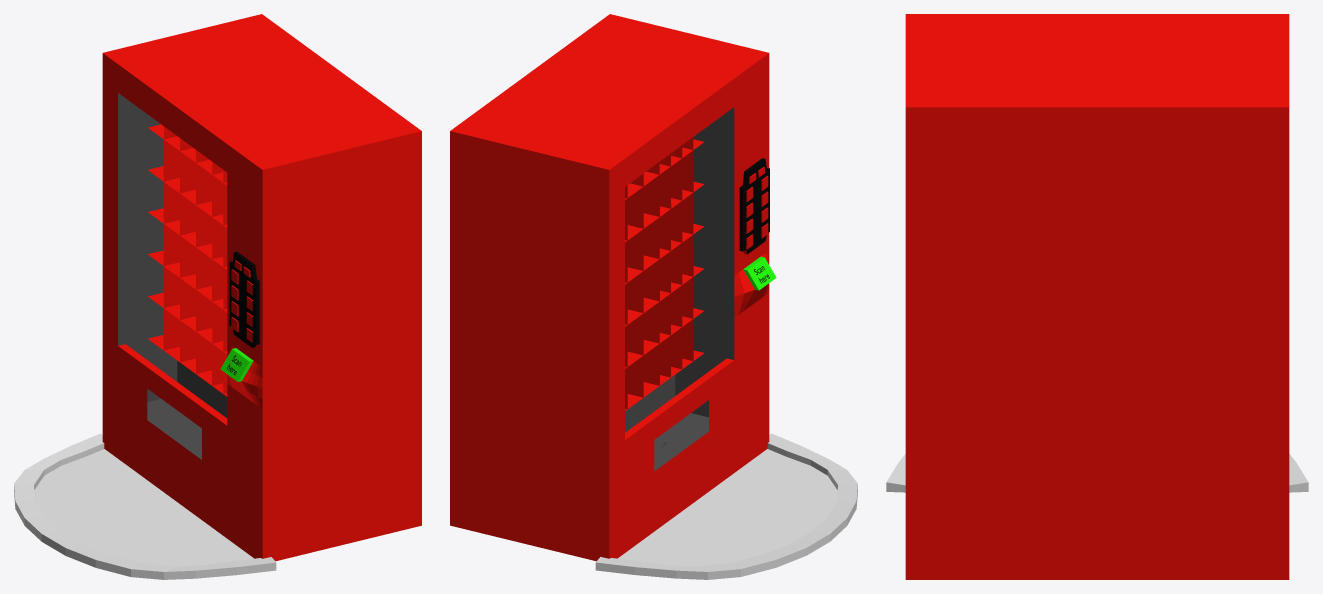
File: Fixed Vending Machine.fbx
3 renders of one model, left to right at view 1: azimuth 30°, elevation 25°; view 2: azimuth 150°, elevation 25°; view 3: azimuth 270°, elevation 25°, orthographic. The views are drawn at different scales.
Visible parts, largest first — view 1: Vending Machine, Cylinder; view 2: Vending Machine, Cylinder; view 3: Vending Machine, Cylinder.
Part boxes in pixels (x1,y1,x2,y2): Vending Machine: (102,14,421,561); Cylinder: (14,433,276,579); Vending Machine: (450,14,776,561); Cylinder: (595,433,857,579); Vending Machine: (905,14,1289,579); Cylinder: (886,454,1308,492).
Bounding box in the file's own units: 582 × 734 × 592.
Materials: 2 (1 with a texture image).
